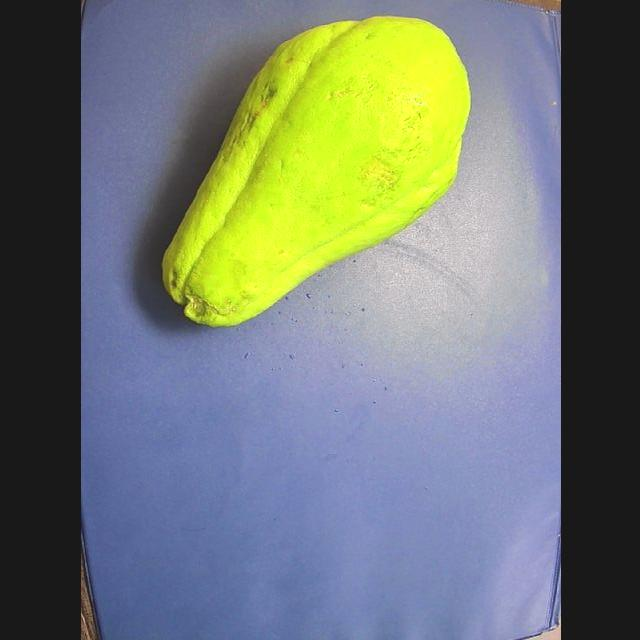chayote: (163, 16, 469, 326)
